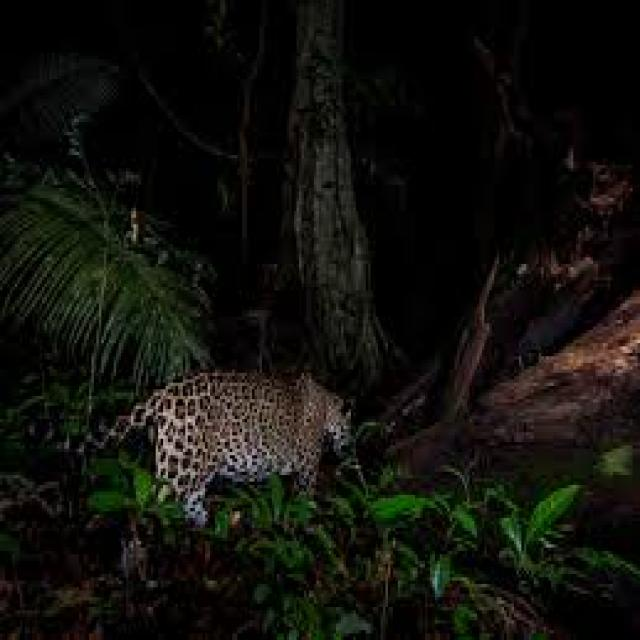Jaguar: (29, 366, 356, 538)
